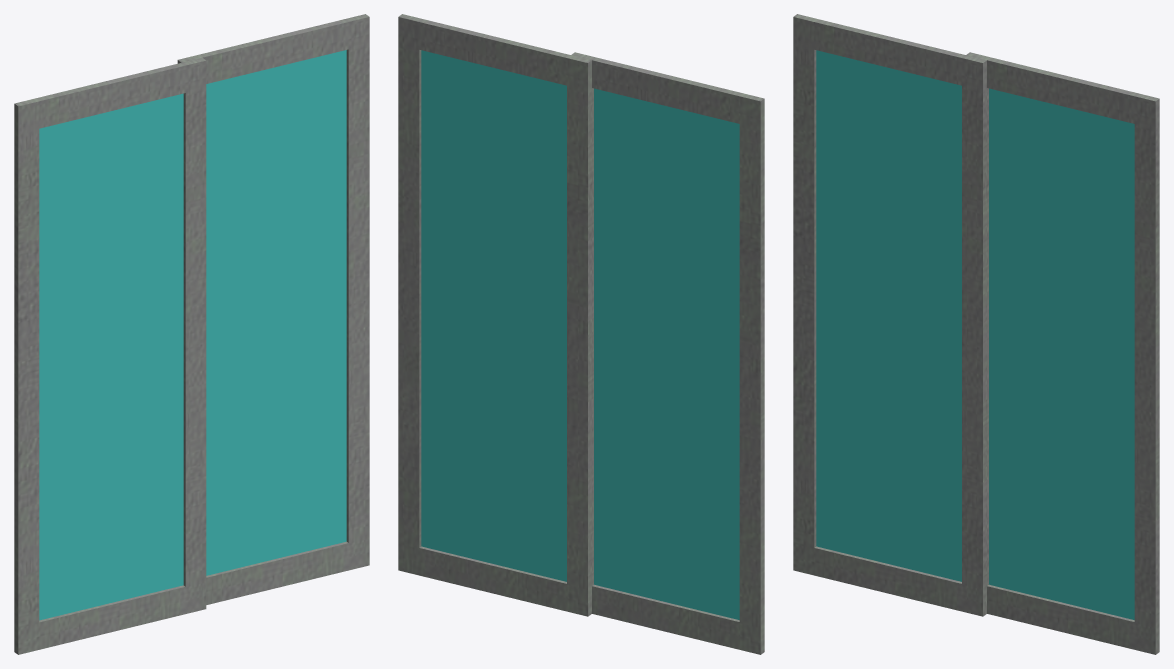
The picture shows the model from 3 angles, left to right: view 1: azimuth 30°, elevation 25°; view 2: azimuth 150°, elevation 25°; view 3: azimuth 330°, elevation 25°; orthographic projection.
Parts seen in each view (by area): view 1: ventanasB:ventanas; view 2: ventanasB:ventanas; view 3: ventanasB:ventanas.
Boxes of the visible parts, bbox=[...] form: ventanasB:ventanas: bbox=[14, 14, 369, 654]; ventanasB:ventanas: bbox=[398, 14, 764, 654]; ventanasB:ventanas: bbox=[793, 14, 1159, 654].
Bounding box in the file's own units: 1.32 × 1.95 × 0.0508.
2 materials, 1 textured.
